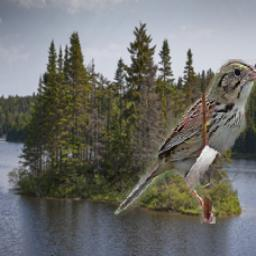Sparrow: (113, 59, 256, 224)
